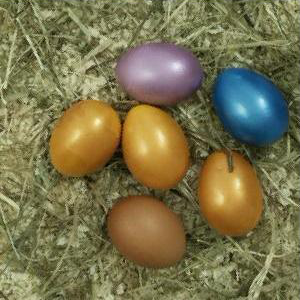egg: (121, 103, 190, 190), (105, 196, 187, 267), (215, 68, 290, 145), (50, 101, 121, 181), (199, 150, 264, 237), (117, 43, 204, 103)
